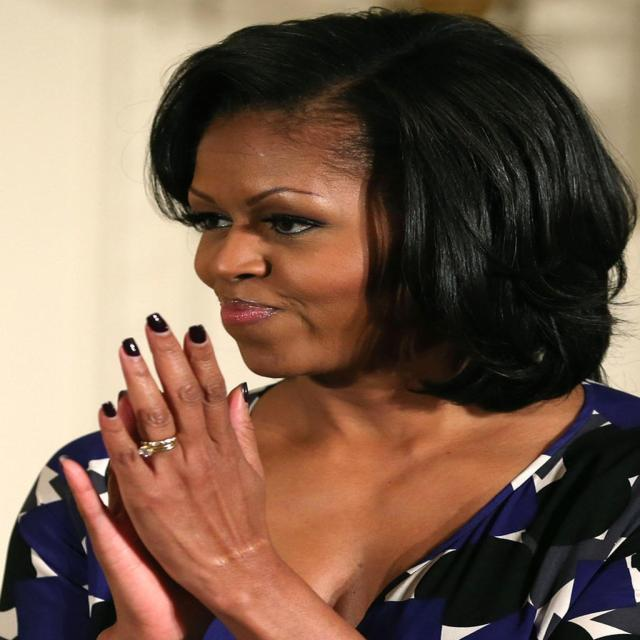Face: (162, 109, 422, 383)
